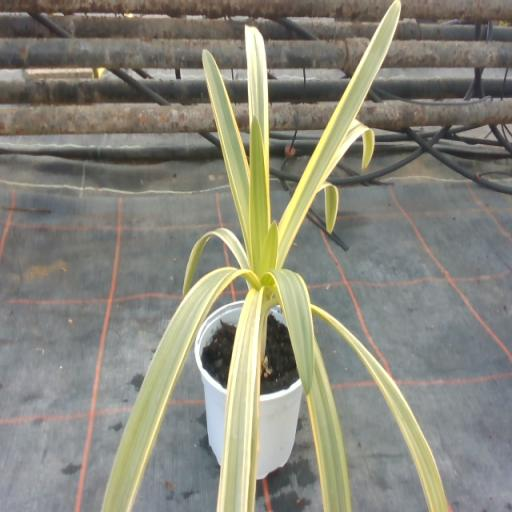Agapanthus-praecox: (102, 269, 254, 511), (277, 0, 399, 268), (314, 305, 446, 511), (218, 290, 266, 511), (202, 50, 251, 256), (306, 348, 351, 511), (270, 271, 313, 393), (184, 227, 249, 293), (246, 27, 268, 191), (250, 116, 270, 271), (330, 121, 374, 172), (321, 183, 338, 233), (318, 180, 330, 189)
